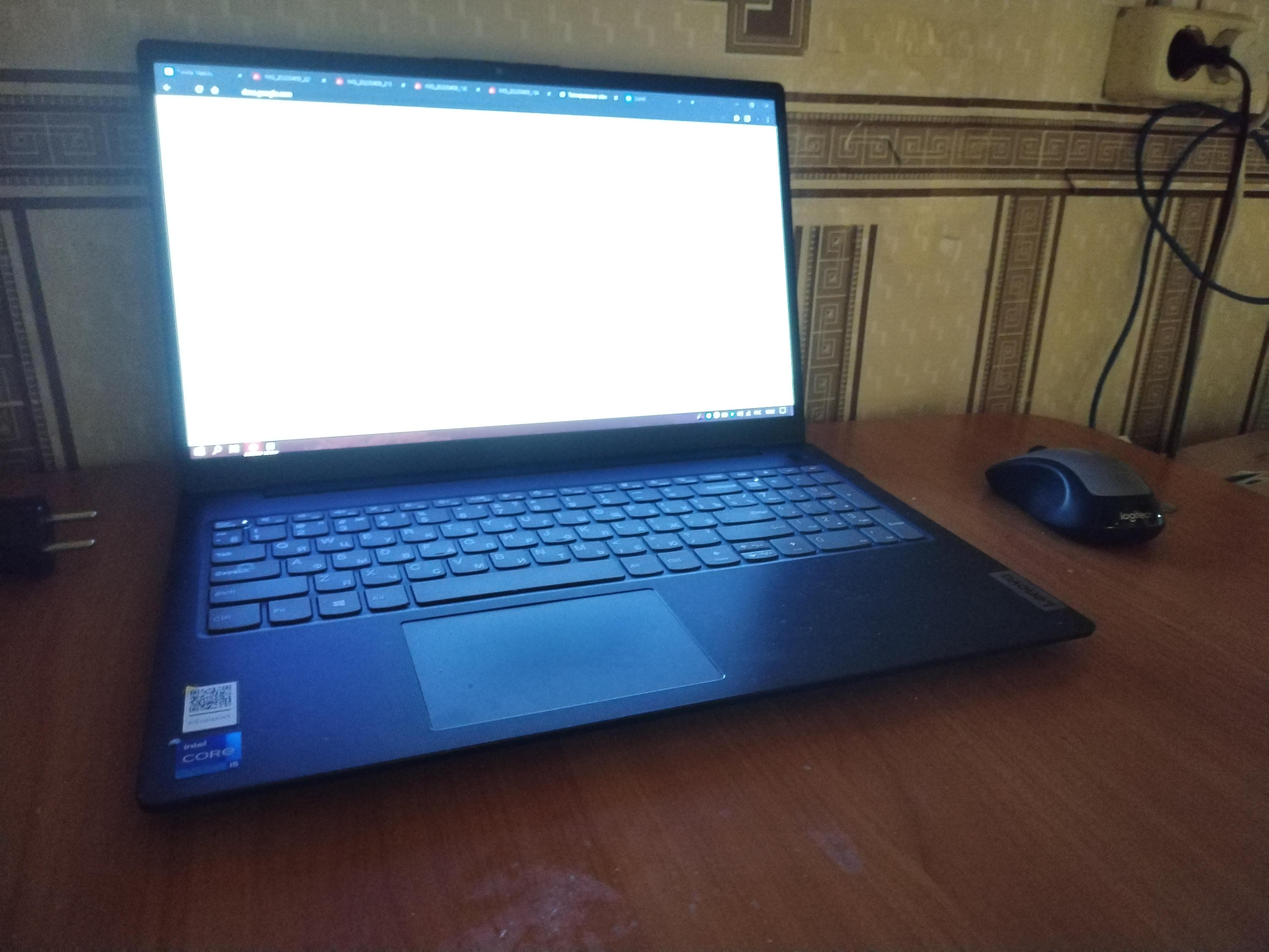monitor: (131, 33, 818, 508)
